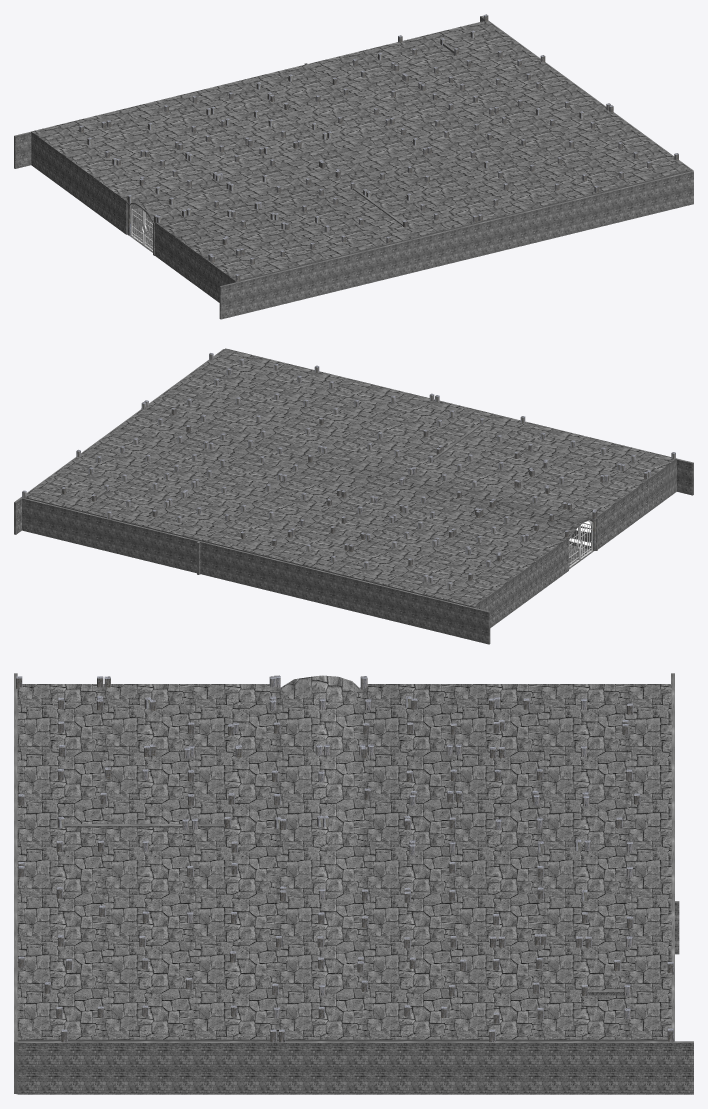
The model's file is Maze Dungeon obj.FBX.
3 renders of one model, top to bottom at view 1: azimuth 30°, elevation 25°; view 2: azimuth 150°, elevation 25°; view 3: azimuth 270°, elevation 25°, orthographic. The views are drawn at different scales.
Visible parts, largest first — view 1: Box525, Box142, Box141, Box144, Box145, Box143, Box136, Box137, Box246, Box139, Box135, Box001; view 2: Box525, Box135, Box134, Box133, Box131, Box132, Box137, Box136, Box246, Box139, Box142, Box001; view 3: Box525, Box127, Box128, Box129, Box130.
Part boxes in pixels (left/top/right/bottom): Box525: left=31, top=21, right=691, bottom=282; Box142: left=219, top=263, right=315, bottom=319; Box141: left=315, top=240, right=410, bottom=296; Box144: left=503, top=194, right=598, bottom=250; Box145: left=598, top=171, right=693, bottom=227; Box143: left=409, top=217, right=504, bottom=273; Box136: left=31, top=133, right=84, bottom=203; Box137: left=84, top=172, right=127, bottom=234; Box246: left=155, top=223, right=193, bottom=283; Box139: left=194, top=252, right=222, bottom=302; Box135: left=14, top=131, right=31, bottom=168; Box001: left=131, top=204, right=152, bottom=251; Box525: left=25, top=348, right=676, bottom=607; Box135: left=395, top=589, right=490, bottom=644; Box134: left=301, top=566, right=395, bottom=621; Box133: left=208, top=543, right=302, bottom=598; Box131: left=21, top=498, right=115, bottom=553; Box132: left=114, top=520, right=208, bottom=575; Box137: left=527, top=539, right=568, bottom=600; Box136: left=475, top=569, right=527, bottom=627; Box246: left=597, top=490, right=635, bottom=549; Box139: left=635, top=469, right=664, bottom=521; Box142: left=677, top=458, right=693, bottom=495; Box001: left=569, top=520, right=592, bottom=567; Box525: left=17, top=675, right=671, bottom=1041; Box127: left=17, top=1041, right=192, bottom=1094; Box128: left=192, top=1041, right=367, bottom=1094; Box129: left=366, top=1041, right=541, bottom=1094; Box130: left=541, top=1041, right=693, bottom=1094.
Bounding box in the file's own units: 4519 × 357 × 3513.
